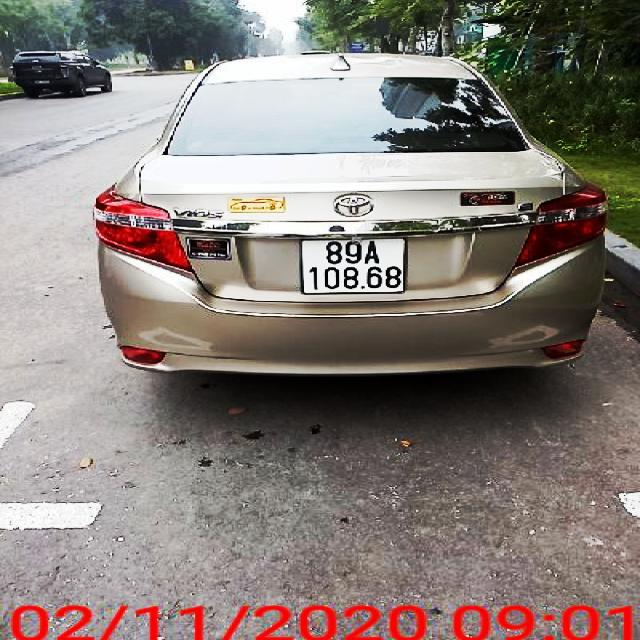license_plate: (303, 241, 407, 295)
